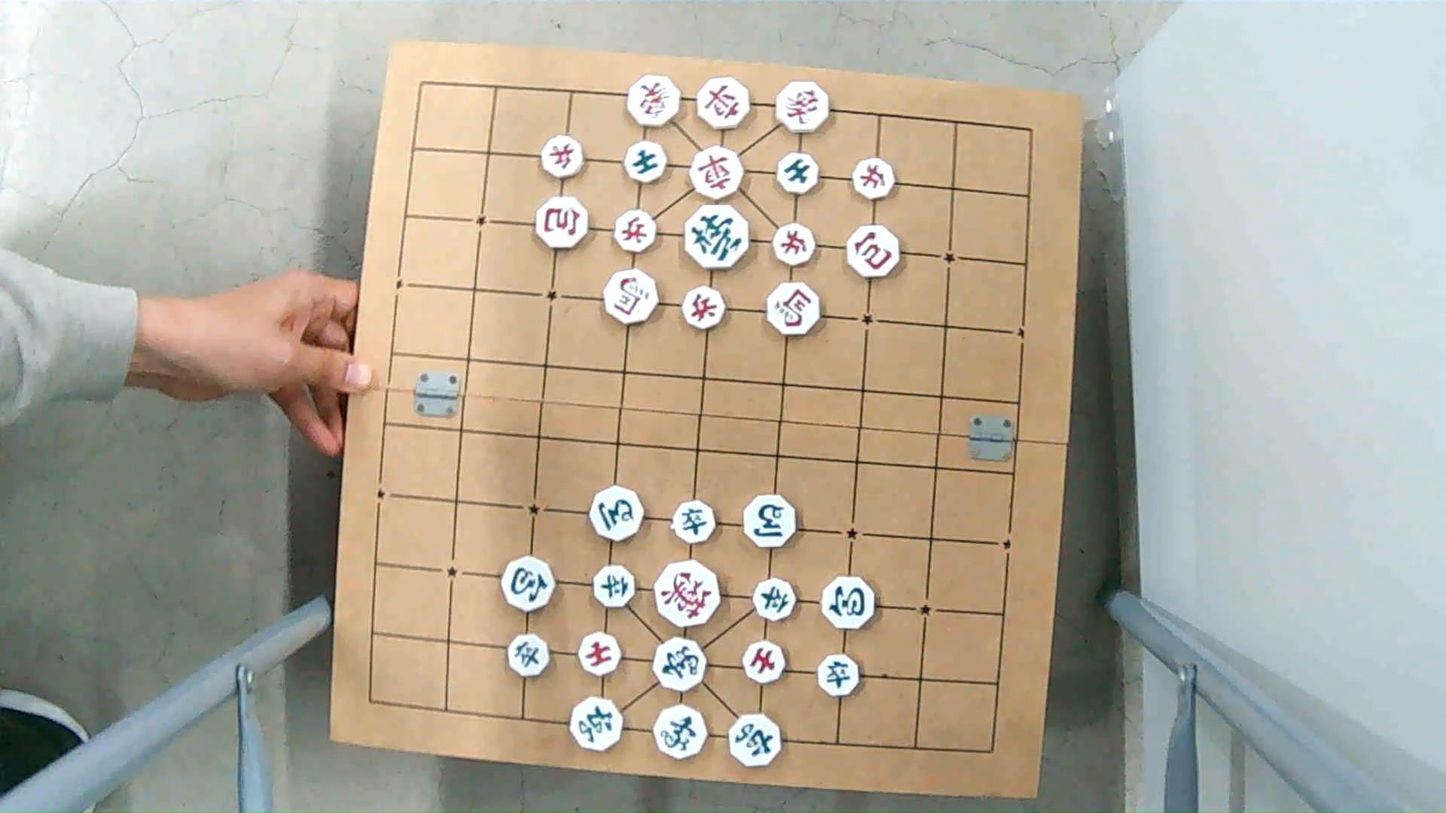cha_green: (572, 696, 627, 751), (728, 717, 782, 768)
cha_red: (697, 78, 752, 132), (691, 151, 749, 199)
jol_green: (590, 565, 641, 607), (507, 633, 551, 680), (750, 580, 798, 623), (672, 504, 718, 545), (816, 656, 862, 696)
jol_red: (681, 289, 725, 330), (852, 158, 897, 197), (541, 138, 585, 177), (773, 225, 816, 264), (614, 212, 657, 251)
ma_green: (589, 490, 644, 541), (741, 495, 796, 544)
ma_red: (603, 275, 659, 324), (767, 285, 822, 333)
po_green: (499, 559, 555, 611), (819, 580, 876, 630)
po_red: (849, 227, 905, 277), (537, 200, 590, 249)
sa_green: (623, 142, 667, 181), (778, 157, 822, 195)
sa_red: (743, 639, 786, 685), (578, 635, 624, 674)
sang_green: (654, 640, 708, 691), (653, 708, 709, 757)
sang_red: (627, 78, 682, 126), (776, 84, 832, 131)
wang_green: (683, 202, 749, 271)
wang_red: (654, 565, 724, 623)
